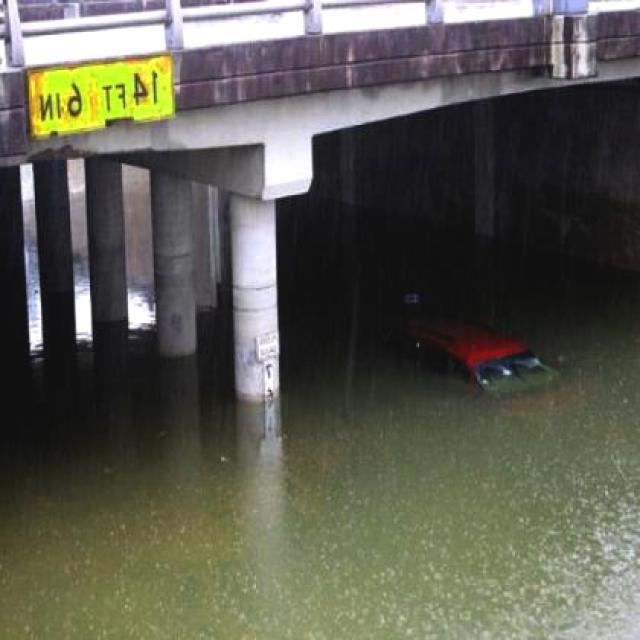water: (0, 334, 635, 637), (278, 81, 638, 365), (159, 284, 234, 413), (122, 164, 155, 329), (67, 158, 92, 344), (19, 163, 43, 352)
